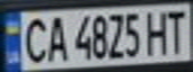4: (69, 11, 93, 61)
5: (121, 9, 145, 57)
7: (106, 10, 127, 60)
8: (90, 11, 109, 61)
A: (42, 12, 69, 63)
C: (18, 13, 51, 64)
H: (142, 7, 172, 56)
T: (163, 6, 193, 55)
